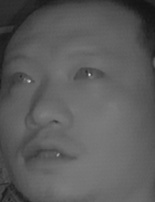eye: (71, 61, 105, 85), (9, 67, 39, 88)
mouth: (21, 135, 79, 173)
